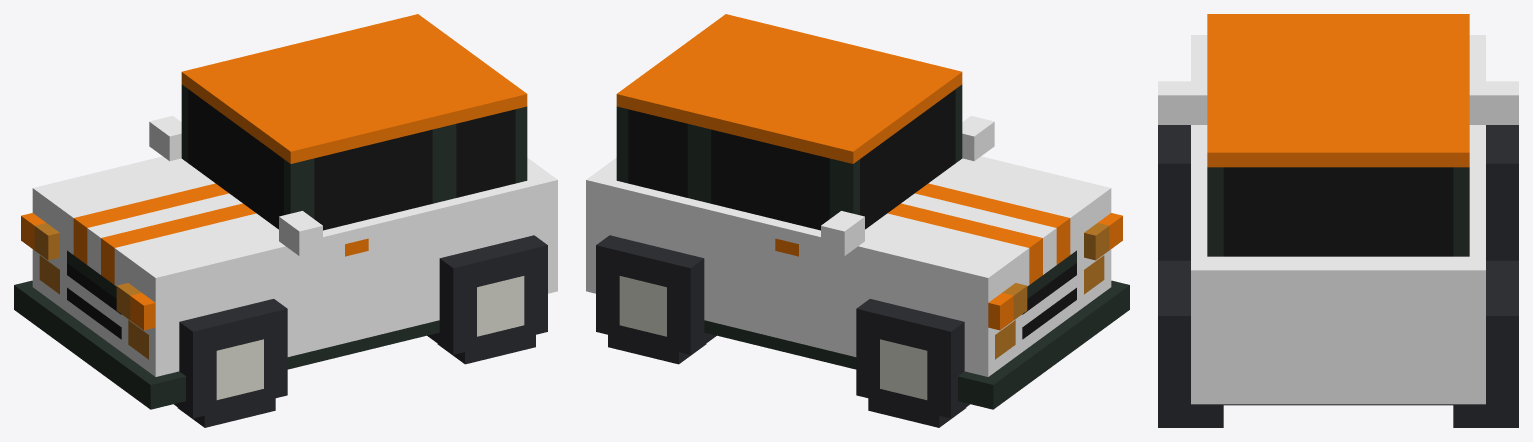
The model's file is car_orange_len_2.glb.
3 views of the same model, side by side, from view 1: azimuth 30°, elevation 25°; view 2: azimuth 150°, elevation 25°; view 3: azimuth 270°, elevation 25° (orthographic). The views are drawn at different scales.
Visible parts, largest first — view 1: _0; view 2: _0; view 3: _0.
Part boxes in pixels (left/top/right/bottom): _0: left=14, top=14, right=557, bottom=427; _0: left=586, top=14, right=1129, bottom=427; _0: left=1158, top=14, right=1518, bottom=427.
Bounding box in the file's own units: 0.0525 × 0.0285 × 0.033.
